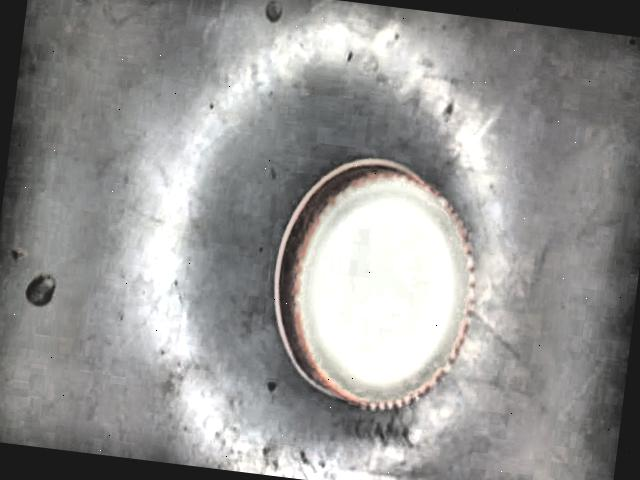Paper: (240, 137, 500, 445)
